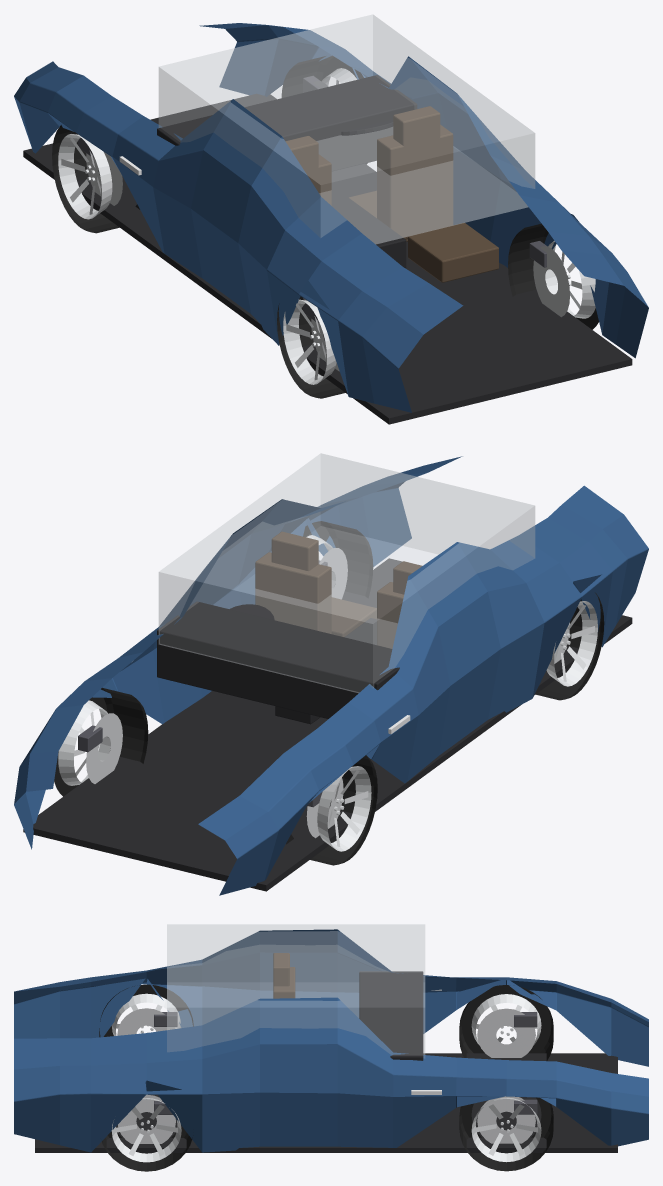
The model's file is Car_Aston_Martin_DB7_1990s_Complete.glb.
The picture shows the model from 3 angles, top to bottom: view 1: azimuth 30°, elevation 25°; view 2: azimuth 150°, elevation 25°; view 3: azimuth 270°, elevation 25°; orthographic projection. The views are drawn at different scales.
Parts seen in each view (by area): view 1: BODY_AstonMartin_DB7_MainShell, GLASS_AstonMartin_DB7, CHASSIS_BellyPan, INTERIOR_GTSeats, INTERIOR_Dashboard, WHEEL_FR_Rim, WHEEL_RR_Rim, WHEEL_RL_Tire, WHEEL_FR_Tire, BRAKE_RL_Rotor, WHEEL_FL_Tire, WHEEL_RR_Tire (+2 smaller); view 2: BODY_AstonMartin_DB7_MainShell, GLASS_AstonMartin_DB7, CHASSIS_BellyPan, INTERIOR_Dashboard, INTERIOR_GTSeats, WHEEL_FR_Rim, WHEEL_FL_Tire, WHEEL_RL_Tire, WHEEL_RR_Rim, WHEEL_FR_Tire, WHEEL_FL_Rim, BRAKE_FL_Rotor (+3 smaller); view 3: BODY_AstonMartin_DB7_MainShell, GLASS_AstonMartin_DB7, CHASSIS_BellyPan, INTERIOR_Dashboard, WHEEL_FR_Tire, BRAKE_FR_Rotor, WHEEL_FL_Tire, WHEEL_FL_Rim, WHEEL_RL_Rim, BRAKE_FL_Rotor, BRAKE_RL_Rotor, WHEEL_FR_Rim (+5 smaller).
Boxes of the visible parts, x1=… form: BODY_AstonMartin_DB7_MainShell: x1=14, y1=23, x2=648, y2=412; GLASS_AstonMartin_DB7: x1=158, y1=14, x2=535, y2=244; CHASSIS_BellyPan: x1=23, y1=93, x2=632, y2=424; INTERIOR_GTSeats: x1=285, y1=106, x2=498, y2=282; INTERIOR_Dashboard: x1=157, y1=75, x2=417, y2=267; WHEEL_FR_Rim: x1=58, y1=134, x2=112, y2=219; WHEEL_RR_Rim: x1=283, y1=299, x2=336, y2=384; WHEEL_RL_Tire: x1=508, y1=223, x2=598, y2=329; WHEEL_FR_Tire: x1=52, y1=125, x2=139, y2=233; BRAKE_RL_Rotor: x1=533, y1=246, x2=569, y2=317; WHEEL_FL_Tire: x1=281, y1=55, x2=367, y2=164; WHEEL_RR_Tire: x1=277, y1=296, x2=345, y2=398; BODY_AstonMartin_DB7_MainShell: x1=14, y1=456, x2=648, y2=895; GLASS_AstonMartin_DB7: x1=158, y1=453, x2=535, y2=693; CHASSIS_BellyPan: x1=23, y1=558, x2=632, y2=891; INTERIOR_Dashboard: x1=157, y1=601, x2=399, y2=724; INTERIOR_GTSeats: x1=255, y1=531, x2=422, y2=648; WHEEL_FR_Rim: x1=317, y1=766, x2=371, y2=851; WHEEL_FL_Tire: x1=54, y1=687, x2=148, y2=796; WHEEL_RL_Tire: x1=303, y1=521, x2=373, y2=598; WHEEL_RR_Rim: x1=546, y1=601, x2=597, y2=686; WHEEL_FR_Tire: x1=286, y1=755, x2=377, y2=865; WHEEL_FL_Rim: x1=58, y1=700, x2=110, y2=785; BRAKE_FL_Rotor: x1=86, y1=713, x2=122, y2=783; BODY_AstonMartin_DB7_MainShell: x1=14, y1=929, x2=648, y2=1152; GLASS_AstonMartin_DB7: x1=167, y1=924, x2=425, y2=1058; CHASSIS_BellyPan: x1=35, y1=1053, x2=617, y2=1152; INTERIOR_Dashboard: x1=359, y1=971, x2=423, y2=1060; WHEEL_FR_Tire: x1=459, y1=985, x2=553, y2=1060; BRAKE_FR_Rotor: x1=477, y1=1008, x2=535, y2=1057; WHEEL_FL_Tire: x1=459, y1=1097, x2=553, y2=1171; WHEEL_FL_Rim: x1=471, y1=1097, x2=541, y2=1162; WHEEL_RL_Rim: x1=111, y1=1098, x2=181, y2=1162; BRAKE_FL_Rotor: x1=477, y1=1096, x2=535, y2=1143; BRAKE_RL_Rotor: x1=118, y1=1094, x2=175, y2=1143; WHEEL_FR_Rim: x1=471, y1=994, x2=541, y2=1045.
Size of the model in its own units: 1.88 by 1.25 by 4.57.
